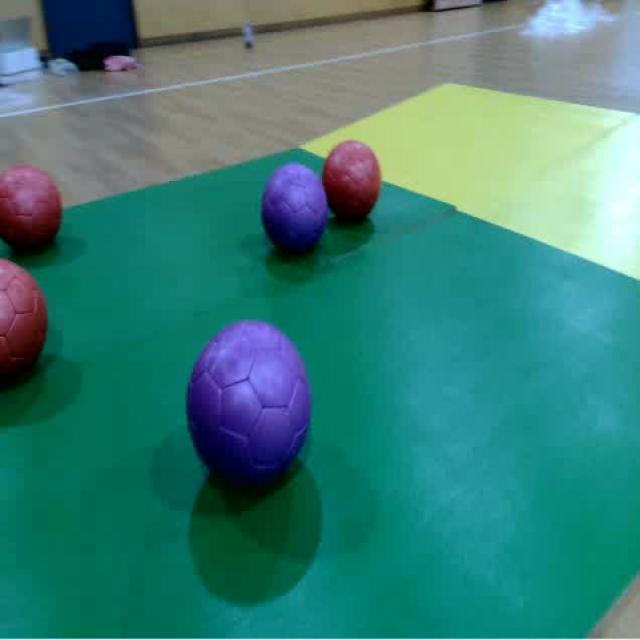purple_ball: (182, 319, 313, 499), (259, 165, 325, 258)
red_ball: (0, 255, 47, 387), (0, 166, 66, 256), (324, 137, 381, 225)
